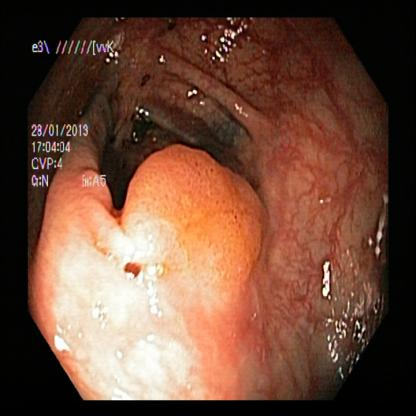Labels: (30, 38, 123, 196)
Polyps: (135, 139, 267, 305)
